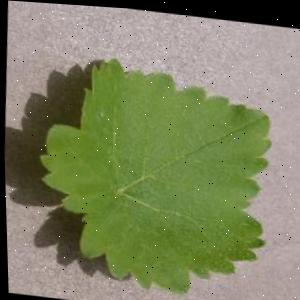Folha: (30, 47, 280, 300)
